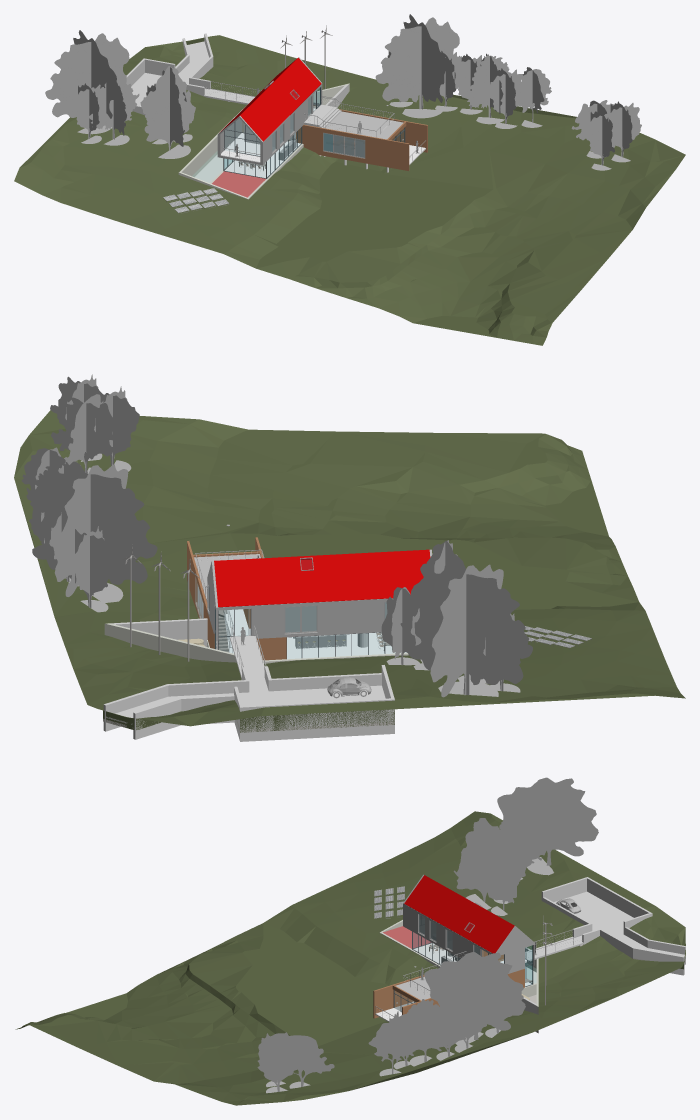
The picture shows the model from 3 angles, top to bottom: view 1: azimuth 30°, elevation 25°; view 2: azimuth 150°, elevation 25°; view 3: azimuth 270°, elevation 25°; orthographic projection. The views are drawn at different scales.
Parts seen in each view (by area): view 1: 3ZGD7y6S5209$mGLi_sPll, 2kYqvrv7r7Ee9Lf6DEVctg, 2kYqvrv7r7Ee9Lf6DEVd2D, 2cgXCjpDT0ZxBvxMSr3pfm, 2kYqvrv7r7Ee9Lf6DEVcq_, 2OulbipBrAkwQNv_KJRV9c, 2kYqvrv7r7Ee9Lf6DEVcvD, 2kYqvrv7r7Ee9Lf6DEVcn3, 2kYqvrv7r7Ee9Lf6DEVclx, 2kYqvrv7r7Ee9Lf6DEVcpT, 0LKJKCHUL1kBtnlFXddz6a, 2kYqvrv7r7Ee9Lf6DEVclA (+11 smaller); view 2: 3ZGD7y6S5209$mGLi_sPll, 2kYqvrv7r7Ee9Lf6DEVd2D, 2kYqvrv7r7Ee9Lf6DEVctg, 2cgXCjpDT0ZxBvxMSr3pfm, 38NblWsDL1I8DljLvn67bV, 3_T6_Ndub6XO_ef59N4DRY, 2kYqvrv7r7Ee9Lf6DEVcim, 2kYqvrv7r7Ee9Lf6DEVctv, 38BWtPCUX0VgAKmmGnoKyb, 0NWseyvsH7_gBW225aGtx$, 2kYqvrv7r7Ee9Lf6DEVclx, 2kYqvrv7r7Ee9Lf6DEVcw_ (+19 smaller); view 3: 3ZGD7y6S5209$mGLi_sPll, 2kYqvrv7r7Ee9Lf6DEVd2D, 2kYqvrv7r7Ee9Lf6DEVctg, 2cgXCjpDT0ZxBvxMSr3pfm, 2kYqvrv7r7Ee9Lf6DEVcq_, 38BWtPCUX0VgAKmmGnoKyb, 2kYqvrv7r7Ee9Lf6DEVclA, 2kYqvrv7r7Ee9Lf6DEVcvD, 2kYqvrv7r7Ee9Lf6DEVcpT, 2kYqvrv7r7Ee9Lf6DEVcn3, 38NblWsDL1I8DljLvn67cw, 2kYqvrv7r7Ee9Lf6DEVcw_ (+12 smaller).
Part boxes in pixels (box(x1,y1,x2,y2)): 3ZGD7y6S5209$mGLi_sPll: box(14, 35, 685, 345); 2kYqvrv7r7Ee9Lf6DEVctg: box(375, 14, 459, 118); 2kYqvrv7r7Ee9Lf6DEVd2D: box(45, 30, 129, 134); 2cgXCjpDT0ZxBvxMSr3pfm: box(219, 57, 321, 141); 2kYqvrv7r7Ee9Lf6DEVcq_: box(144, 66, 195, 158); 2OulbipBrAkwQNv_KJRV9c: box(302, 124, 409, 170); 2kYqvrv7r7Ee9Lf6DEVcvD: box(89, 77, 139, 145); 2kYqvrv7r7Ee9Lf6DEVcn3: box(465, 53, 509, 124); 2kYqvrv7r7Ee9Lf6DEVclx: box(584, 110, 621, 170); 2kYqvrv7r7Ee9Lf6DEVcpT: box(514, 67, 551, 127); 0LKJKCHUL1kBtnlFXddz6a: box(325, 111, 403, 139); 2kYqvrv7r7Ee9Lf6DEVclA: box(606, 101, 641, 162); 3ZGD7y6S5209$mGLi_sPll: box(14, 410, 685, 732); 2kYqvrv7r7Ee9Lf6DEVd2D: box(407, 561, 532, 706); 2kYqvrv7r7Ee9Lf6DEVctg: box(32, 461, 157, 602); 2cgXCjpDT0ZxBvxMSr3pfm: box(214, 549, 430, 607); 38NblWsDL1I8DljLvn67bV: box(218, 598, 393, 638); 3_T6_Ndub6XO_ef59N4DRY: box(239, 698, 391, 741); 2kYqvrv7r7Ee9Lf6DEVcim: box(50, 394, 123, 473); 2kYqvrv7r7Ee9Lf6DEVctv: box(68, 526, 116, 612); 38BWtPCUX0VgAKmmGnoKyb: box(106, 685, 385, 724); 0NWseyvsH7_gBW225aGtx$: box(104, 623, 236, 662); 2kYqvrv7r7Ee9Lf6DEVclx: box(87, 386, 139, 471); 2kYqvrv7r7Ee9Lf6DEVcw_: box(381, 587, 419, 665); 3ZGD7y6S5209$mGLi_sPll: box(15, 811, 685, 1105); 2kYqvrv7r7Ee9Lf6DEVd2D: box(497, 777, 598, 875); 2kYqvrv7r7Ee9Lf6DEVctg: box(424, 952, 525, 1045); 2cgXCjpDT0ZxBvxMSr3pfm: box(404, 875, 514, 953); 2kYqvrv7r7Ee9Lf6DEVcq_: box(453, 818, 511, 909); 38BWtPCUX0VgAKmmGnoKyb: box(554, 891, 684, 956); 2kYqvrv7r7Ee9Lf6DEVclA: box(257, 1038, 304, 1093); 2kYqvrv7r7Ee9Lf6DEVcvD: box(499, 811, 549, 879); 2kYqvrv7r7Ee9Lf6DEVcpT: box(368, 1021, 413, 1076); 2kYqvrv7r7Ee9Lf6DEVcn3: box(406, 999, 456, 1066); 38NblWsDL1I8DljLvn67cw: box(404, 904, 492, 958); 2kYqvrv7r7Ee9Lf6DEVcw_: box(487, 857, 518, 915).
Size of the model in its own units: 83.55 by 24.31 by 87.2.
